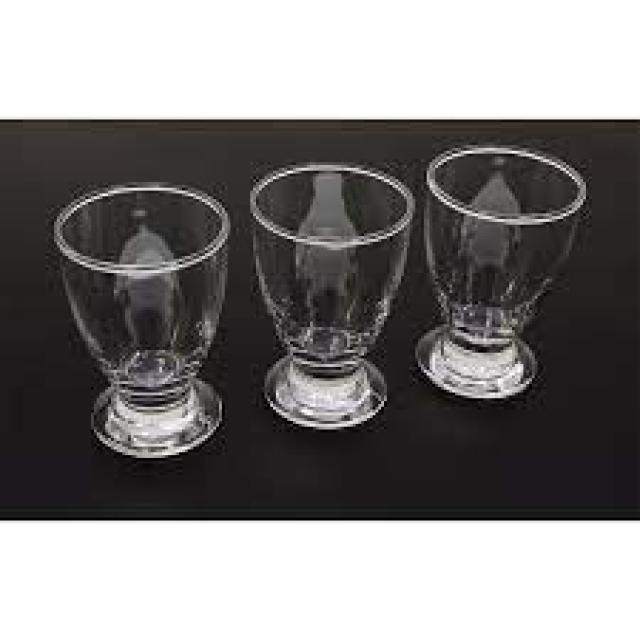Dry Waste: (52, 184, 233, 456)
